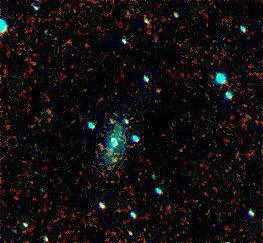star: (103, 148, 133, 178)
